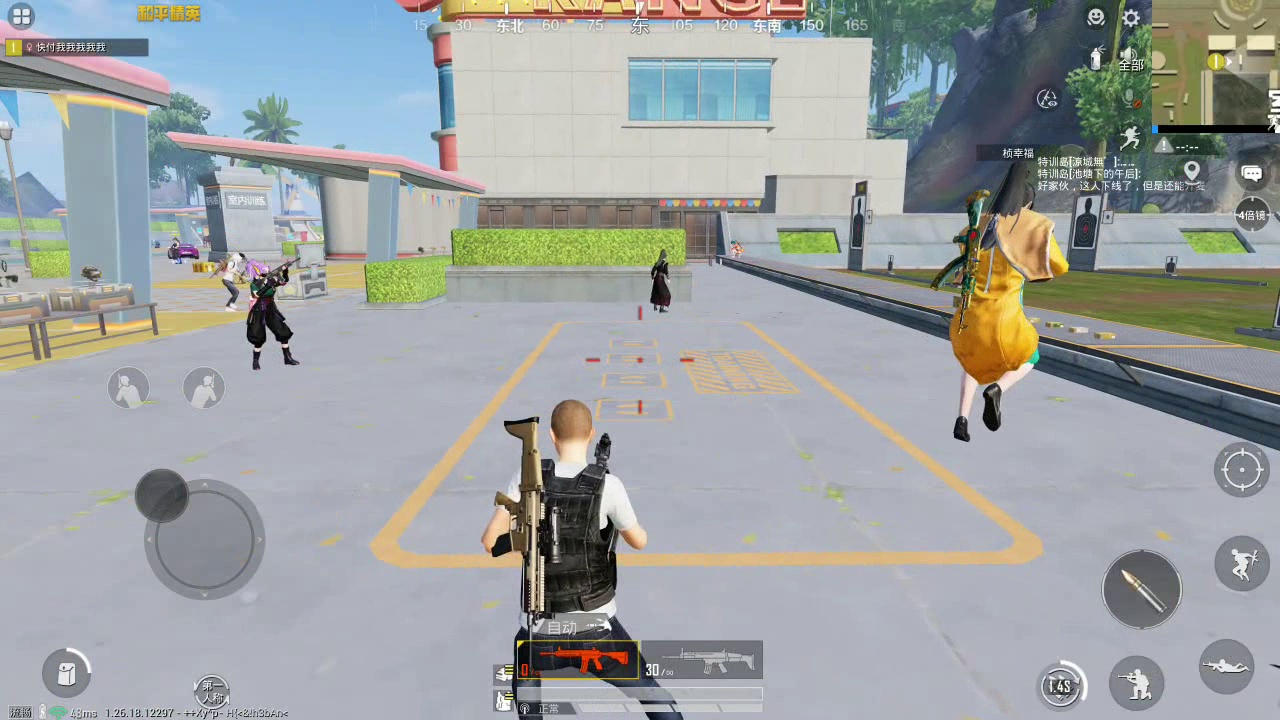enemy: (950, 159, 1062, 441), (243, 260, 300, 360), (218, 252, 243, 311), (652, 251, 674, 315), (726, 235, 746, 258)
